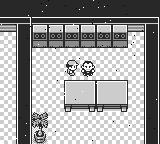main: (66, 61, 78, 75)
no-caminable: (0, 0, 159, 16), (33, 25, 128, 48), (145, 23, 159, 143), (17, 24, 31, 143), (31, 18, 159, 31), (96, 81, 127, 111), (65, 81, 96, 111), (32, 113, 48, 143), (0, 17, 31, 31)
npc: (81, 62, 95, 75)
